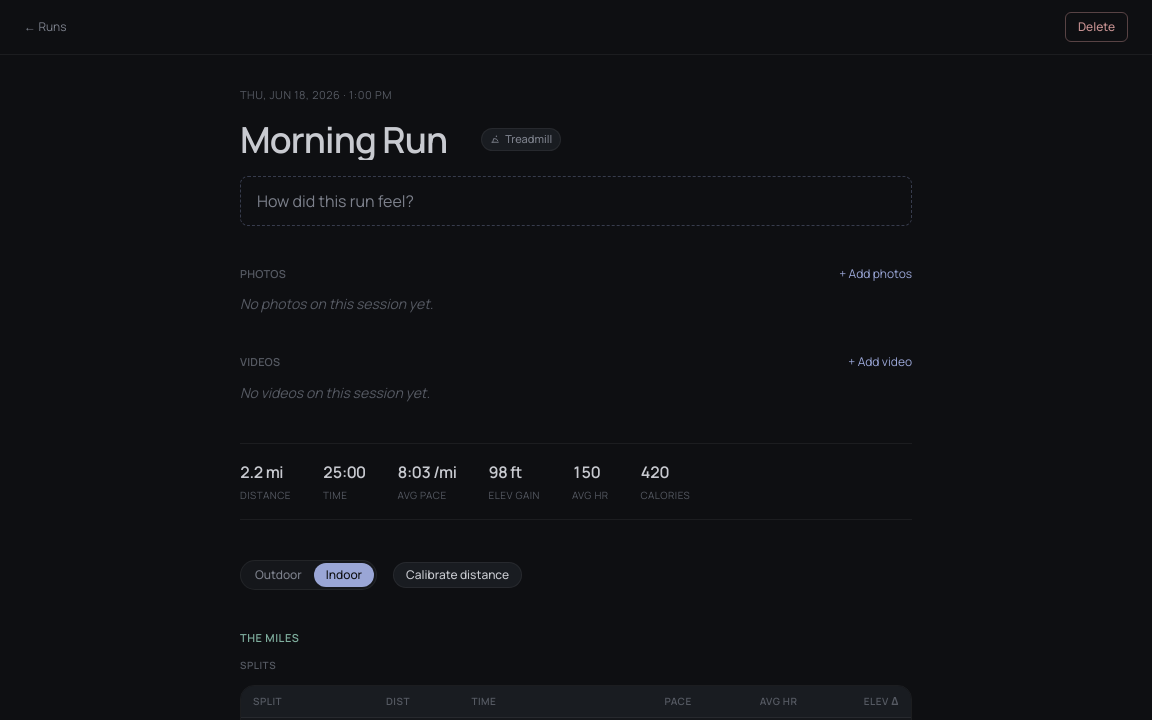
Test: RunningDetailPage — calibration › calibrating replaces the session so header distance matches the rescaled splits
// Open modal, enter the corrected distance, submit.
Click the button "Calibrate distance": (458, 574) [393,562,522,588]
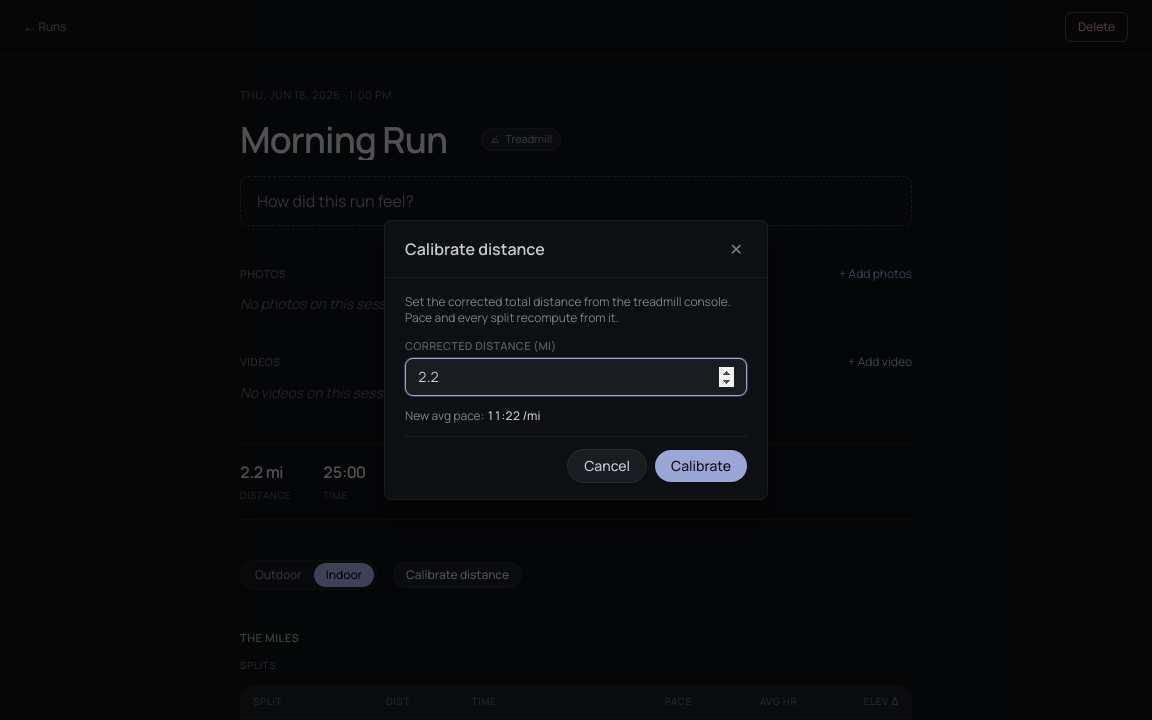
Replace the text in the number field labelled "Corrected distance (mi)" with "1.1": (576, 377) [405,358,747,396]
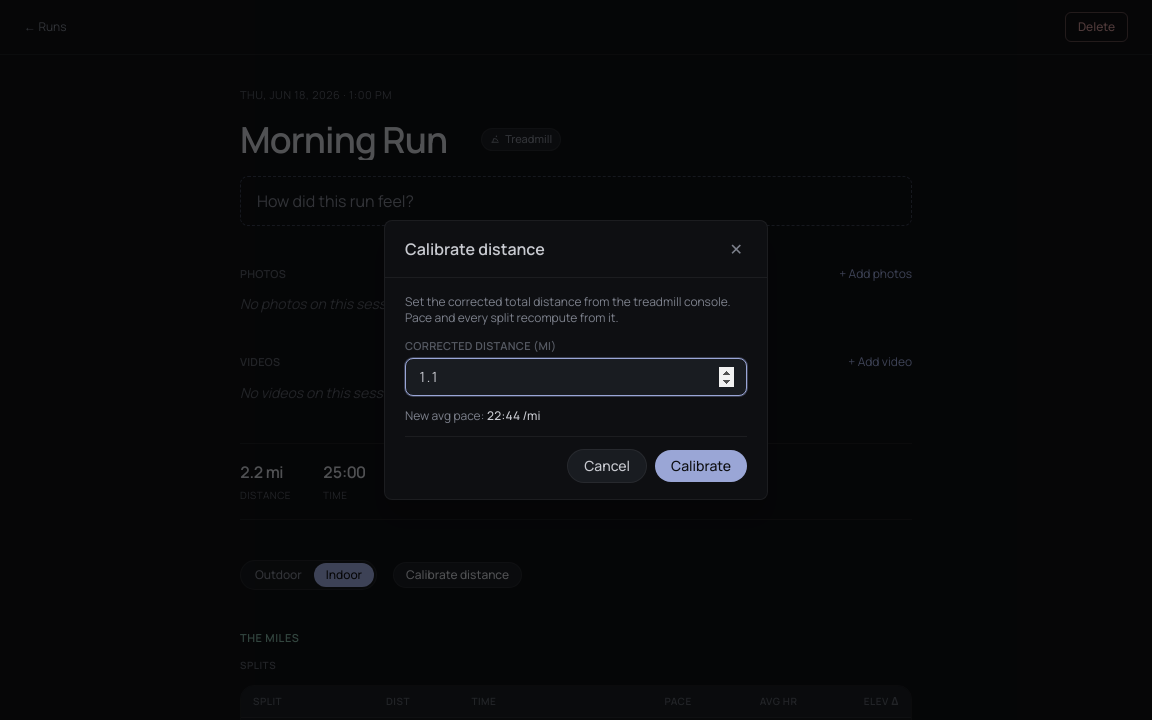
Click the button "Calibrate": (701, 466) [655,450,747,482]
(page scrolled)
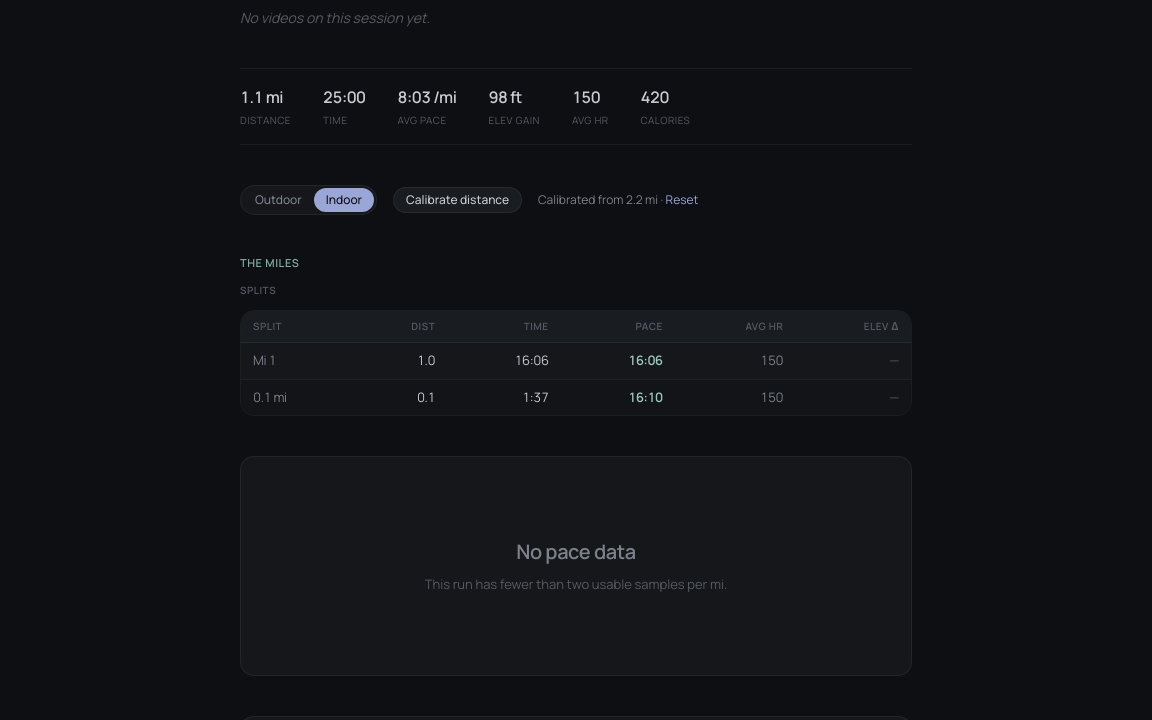
Now the text "1.1 mi" is shown, box [240,86,283,108]
Now the text "Calibrated from 2.2 mi · Reset" is shown, box [538,192,698,208]
Now the 1st text "16:06" is shown, box [447,342,561,379]
